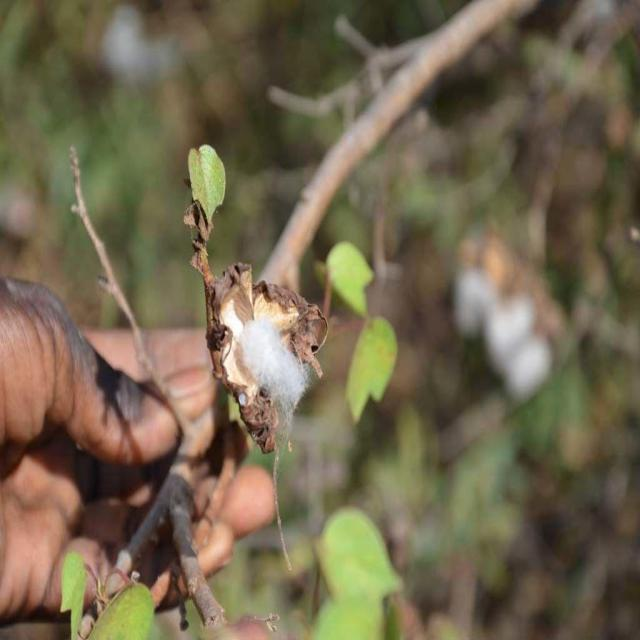Late_blight: (184, 250, 338, 471)
